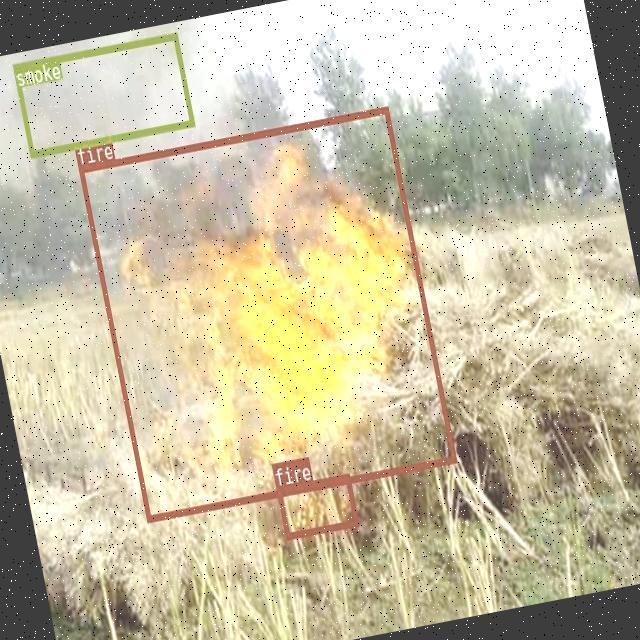fire: (78, 107, 456, 521), (275, 474, 359, 540)
smoke: (12, 32, 194, 156)
